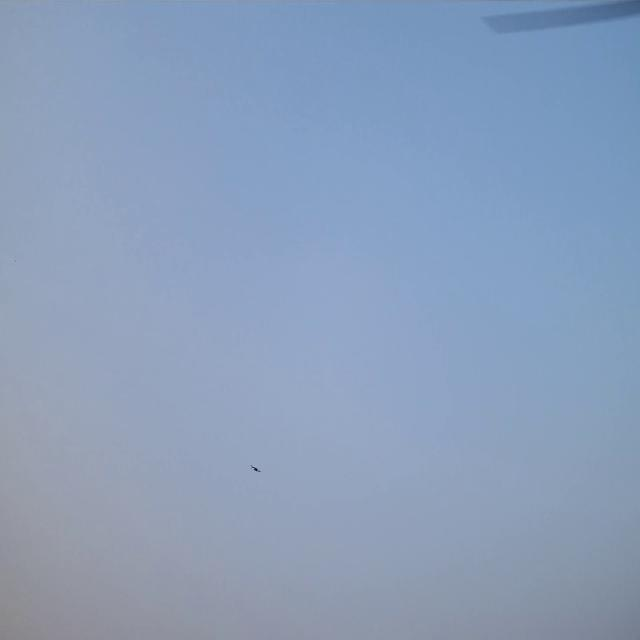UAV: (249, 462, 261, 473)
